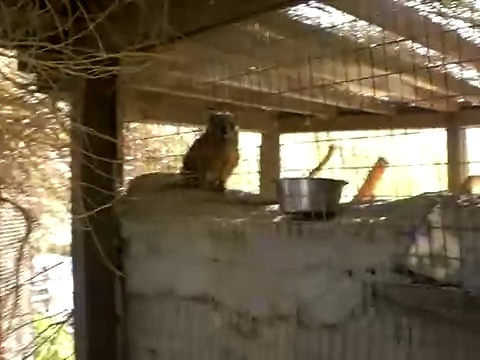Rock Hyrex: (179, 112, 241, 195)
